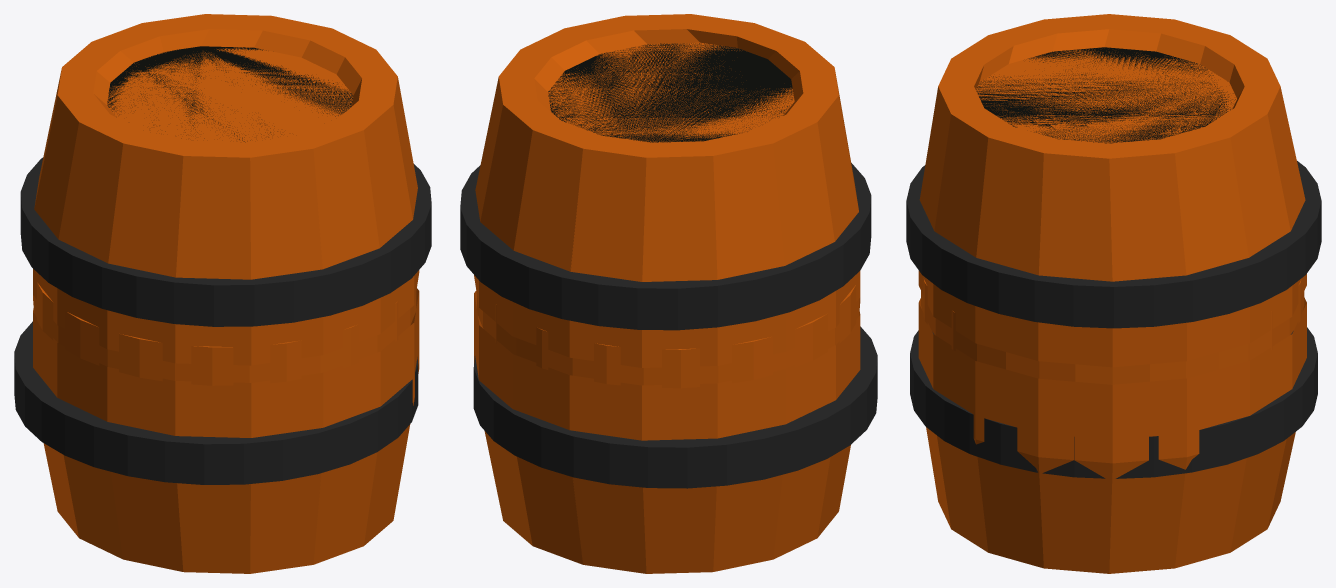
Rendered from barrel.fbx.
3 views of the same model, side by side, from view 1: azimuth 30°, elevation 25°; view 2: azimuth 150°, elevation 25°; view 3: azimuth 270°, elevation 25° (orthographic).
Parts seen in each view (by area): view 1: Cylinder.004; view 2: Cylinder.004; view 3: Cylinder.004.
Boxes of the visible parts, x1=… form: Cylinder.004: x1=14, y1=14, x2=431, y2=573; Cylinder.004: x1=460, y1=14, x2=877, y2=573; Cylinder.004: x1=906, y1=14, x2=1321, y2=573.
Bounding box in the file's own units: 244 × 268 × 242.
